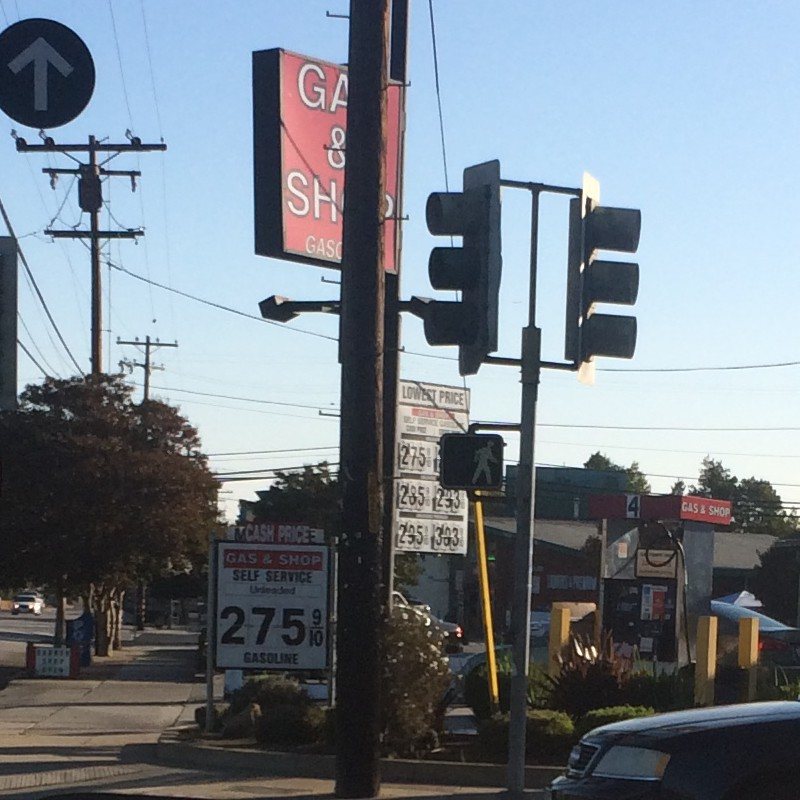go: (436, 435, 508, 498)
